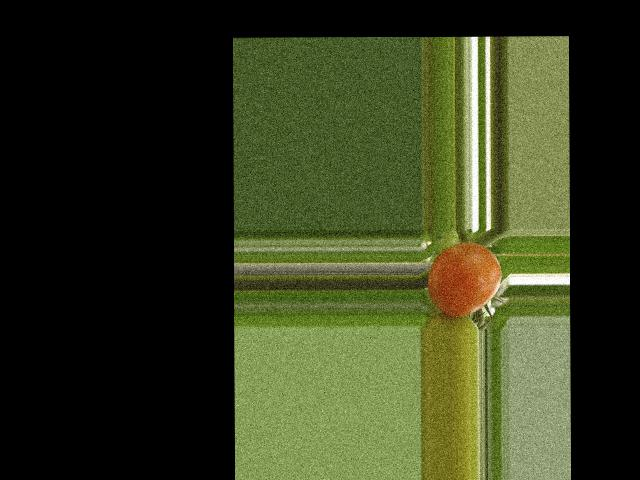tomato: (427, 242, 501, 317)
